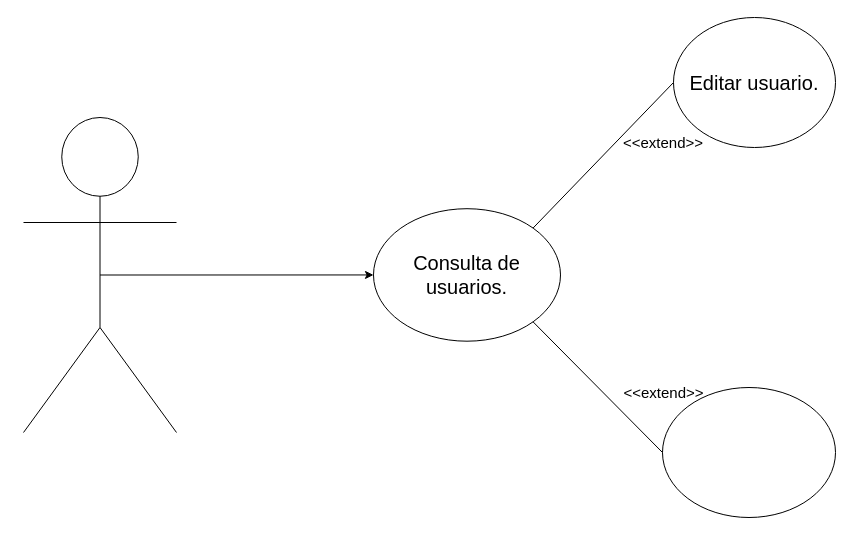
This 853x535 diagram has some shape labels left out. Each missing label, with the box of its shape:
Administrador.: (22, 116, 176, 432)
Registro de usuario: (662, 386, 836, 518)
